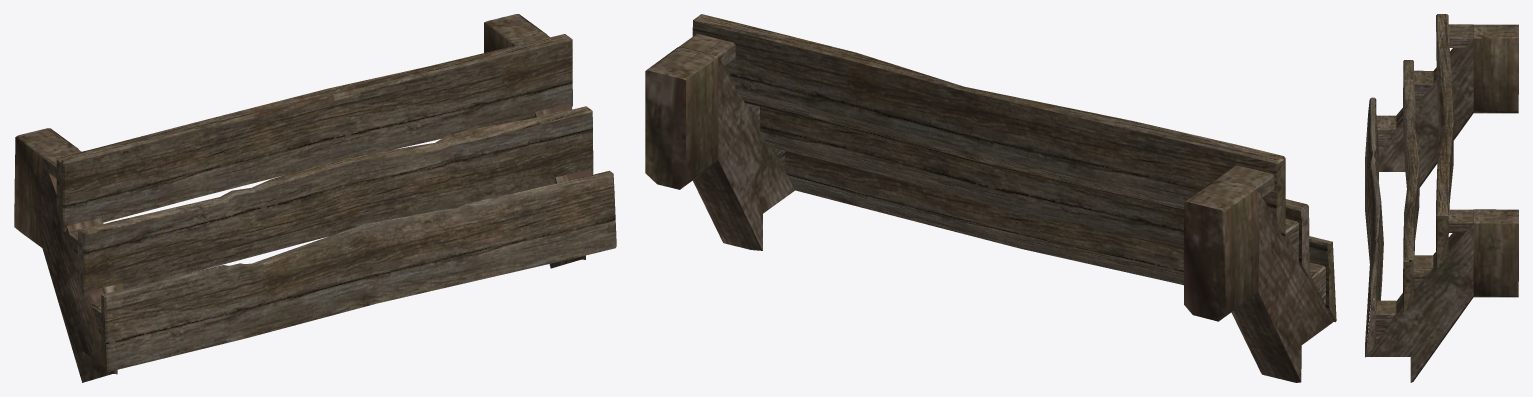
Rendered from ASL_PRO_Small_WoodenStairs_01A_LOD0-transformed.glb.
3 renders of one model, left to right at view 1: azimuth 30°, elevation 25°; view 2: azimuth 150°, elevation 25°; view 3: azimuth 270°, elevation 25°, orthographic. The views are drawn at different scales.
Parts seen in each view (by area): view 1: ASL_PRO_Small_WoodenStairs_01A_LOD0; view 2: ASL_PRO_Small_WoodenStairs_01A_LOD0; view 3: ASL_PRO_Small_WoodenStairs_01A_LOD0.
Part boxes in pixels (box(x1,y1,x2,y2)): ASL_PRO_Small_WoodenStairs_01A_LOD0: box(14, 14, 616, 382); ASL_PRO_Small_WoodenStairs_01A_LOD0: box(645, 14, 1336, 382); ASL_PRO_Small_WoodenStairs_01A_LOD0: box(1365, 14, 1518, 382).
Size of the model in its own units: 0.0302 by 0.0118 by 0.00974.
2 materials, 2 textured.
